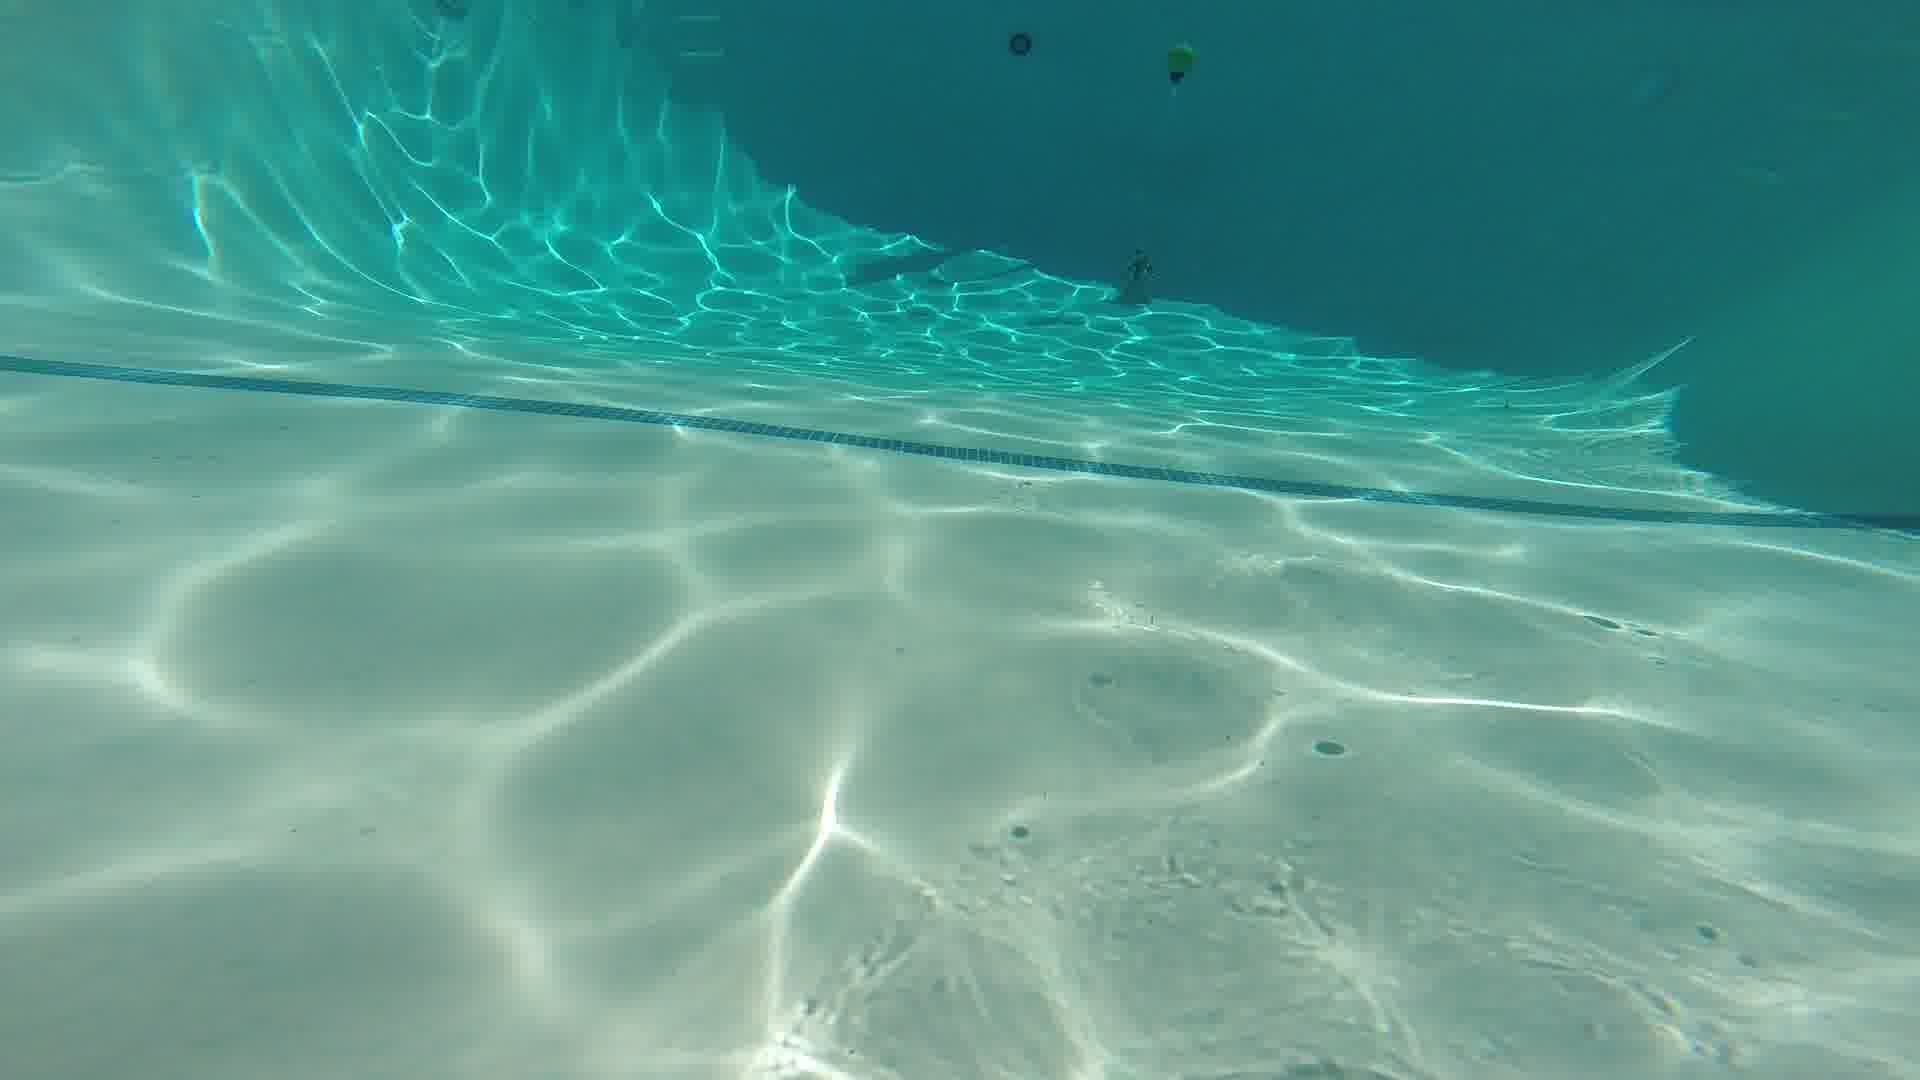yellow_buoy: (1160, 36, 1199, 96)
